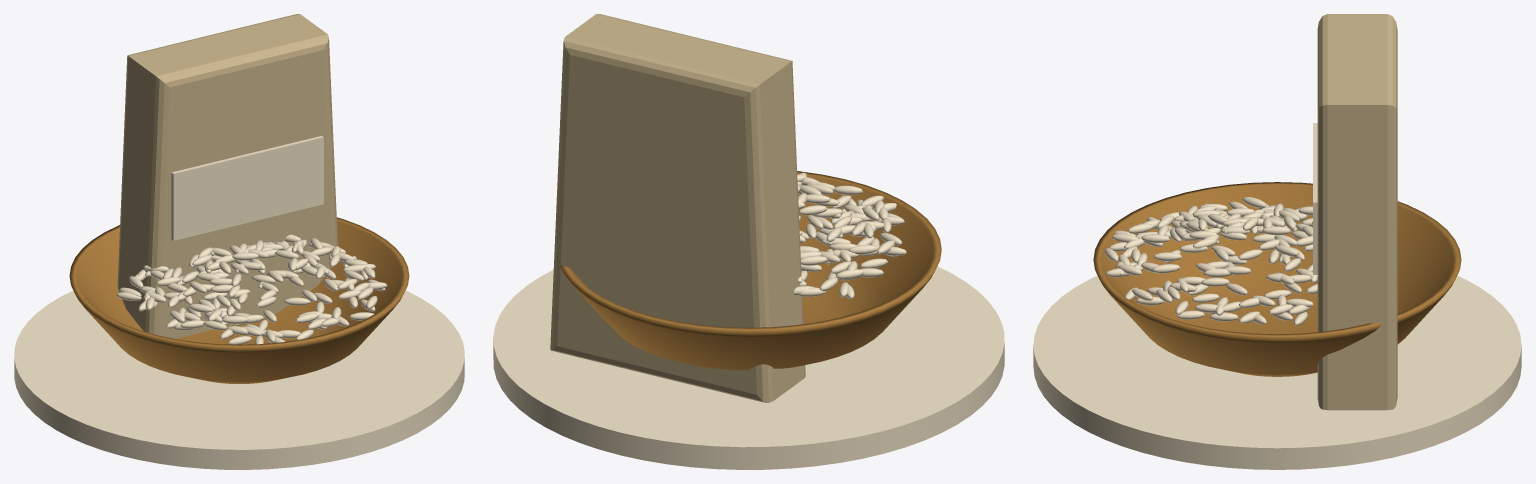
Rendered from seng-cu-rice-v1.glb.
3 renders of one model, left to right at view 1: azimuth 30°, elevation 25°; view 2: azimuth 150°, elevation 25°; view 3: azimuth 270°, elevation 25°, orthographic. The views are drawn at different scales.
Visible parts, largest first — view 1: seng-cu-rice-concept; view 2: seng-cu-rice-concept; view 3: seng-cu-rice-concept.
Part boxes in pixels (x1,y1,x2,y2): seng-cu-rice-concept: (14,14,464,469); seng-cu-rice-concept: (493,14,1004,469); seng-cu-rice-concept: (1033,14,1521,469).
Size of the model in its own units: 2.44 by 1.77 by 2.44.
